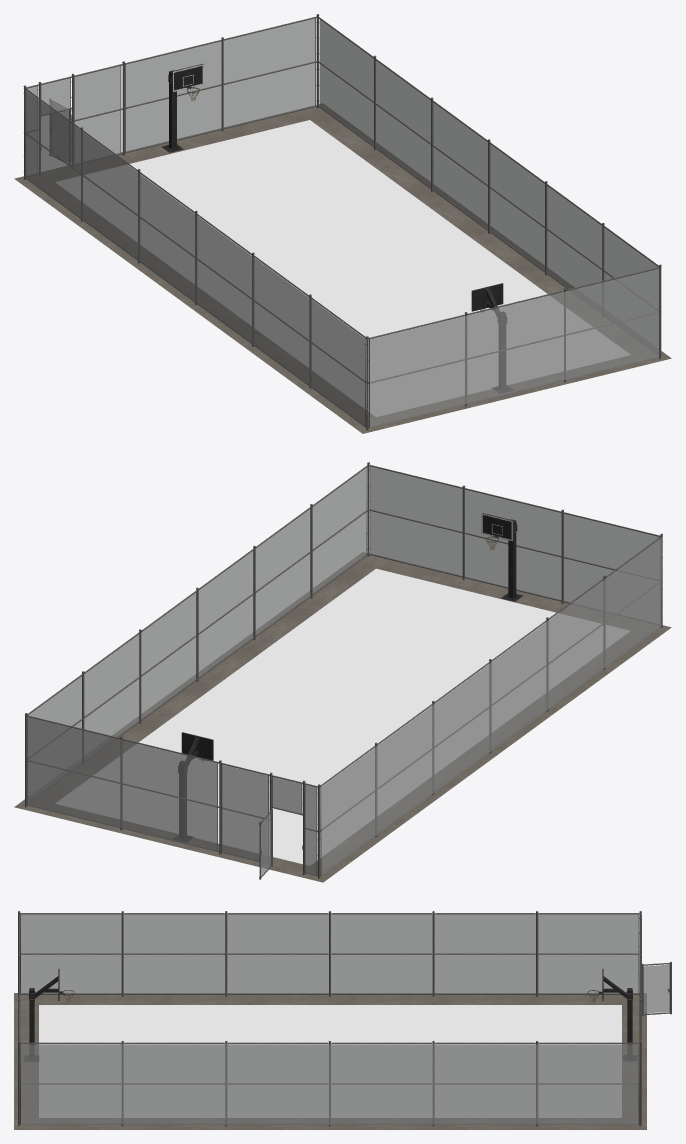
Rendered from street_basketball_court.glb.
3 views of the same model, one above another, from view 1: azimuth 30°, elevation 25°; view 2: azimuth 150°, elevation 25°; view 3: azimuth 270°, elevation 25° (orthographic). The views are drawn at different scales.
Visible parts, largest first — view 1: Plane.030, Fence_Side, Fence_Side.001, Fence_Back, Fence_Front, Hoop.001, Hoop, Fence_Front_Door; view 2: Plane.030, Fence_Side, Fence_Side.001, Fence_Back, Fence_Front, Hoop, Hoop.001, Fence_Front_Door; view 3: Plane.030, Fence_Side.001, Fence_Side, Fence_Front_Door, Hoop.001, Hoop, Fence_Back, Fence_Front.
Boxes of the visible parts, <box> form: Plane.030: <box>14,103,671,433</box>; Fence_Side: <box>24,88,366,427</box>; Fence_Side.001: <box>318,17,659,355</box>; Fence_Back: <box>365,264,661,430</box>; Fence_Front: <box>23,14,319,179</box>; Hoop.001: <box>161,63,203,152</box>; Hoop: <box>471,283,513,393</box>; Fence_Front_Door: <box>49,98,71,164</box>; Plane.030: <box>14,552,671,882</box>; Fence_Side: <box>320,536,661,875</box>; Fence_Side.001: <box>27,465,368,803</box>; Fence_Back: <box>367,462,662,627</box>; Fence_Front: <box>25,713,320,878</box>; Hoop: <box>481,513,523,601</box>; Hoop.001: <box>173,732,213,842</box>; Fence_Front_Door: <box>259,809,272,879</box>; Plane.030: <box>14,993,646,1129</box>; Fence_Side.001: <box>20,1041,639,1126</box>; Fence_Side: <box>20,911,639,996</box>; Fence_Front_Door: <box>642,961,671,1016</box>; Hoop.001: <box>587,968,637,1061</box>; Hoop: <box>24,968,74,1061</box>; Fence_Back: <box>18,911,20,1126</box>; Fence_Front: <box>639,911,641,1126</box>.
Bounding box in the file's own units: 13.47 × 3.9 × 27.37.
7 materials, 7 textured.
